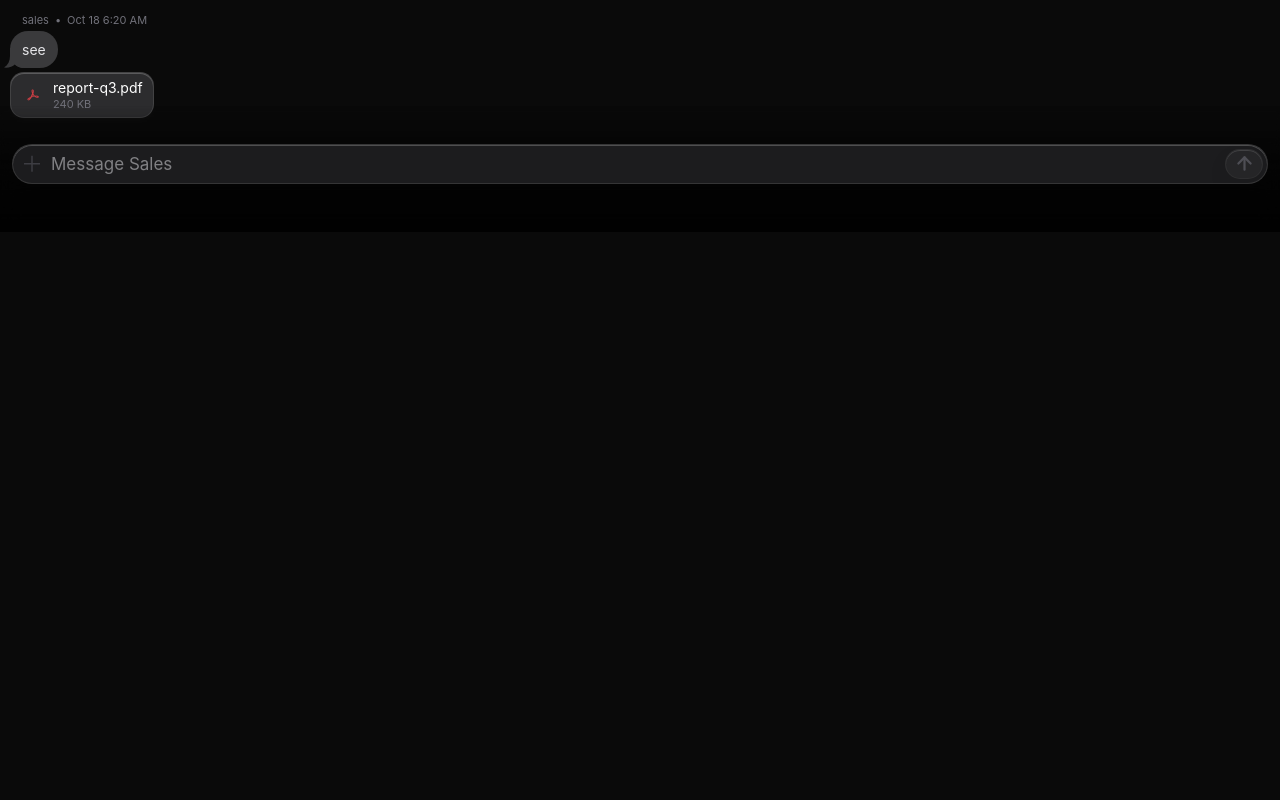
Test: open › 404 attachment_gone reads the same
Click the button with test id "thread-file" at [82, 94], box [10, 72, 154, 118]
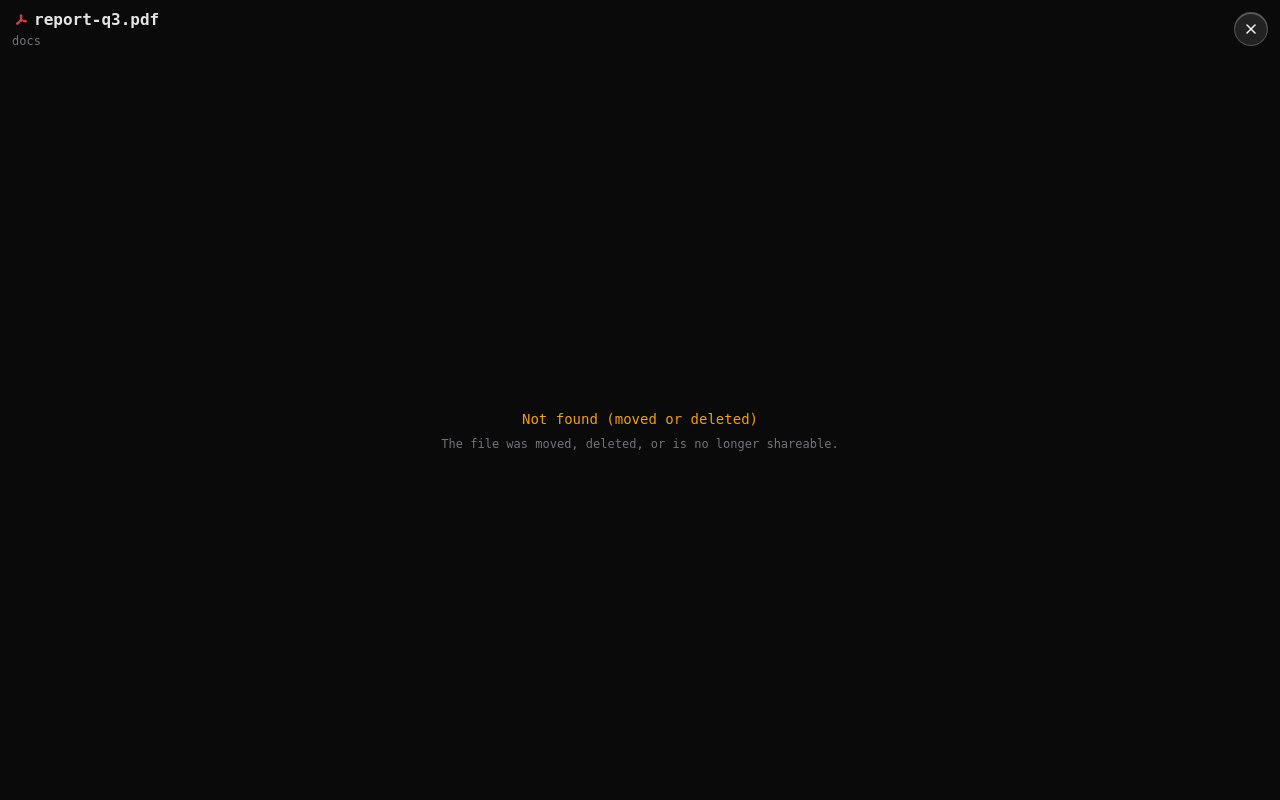
Expected: the element with test id "attachment-gone" is shown, [441, 410, 839, 450]
